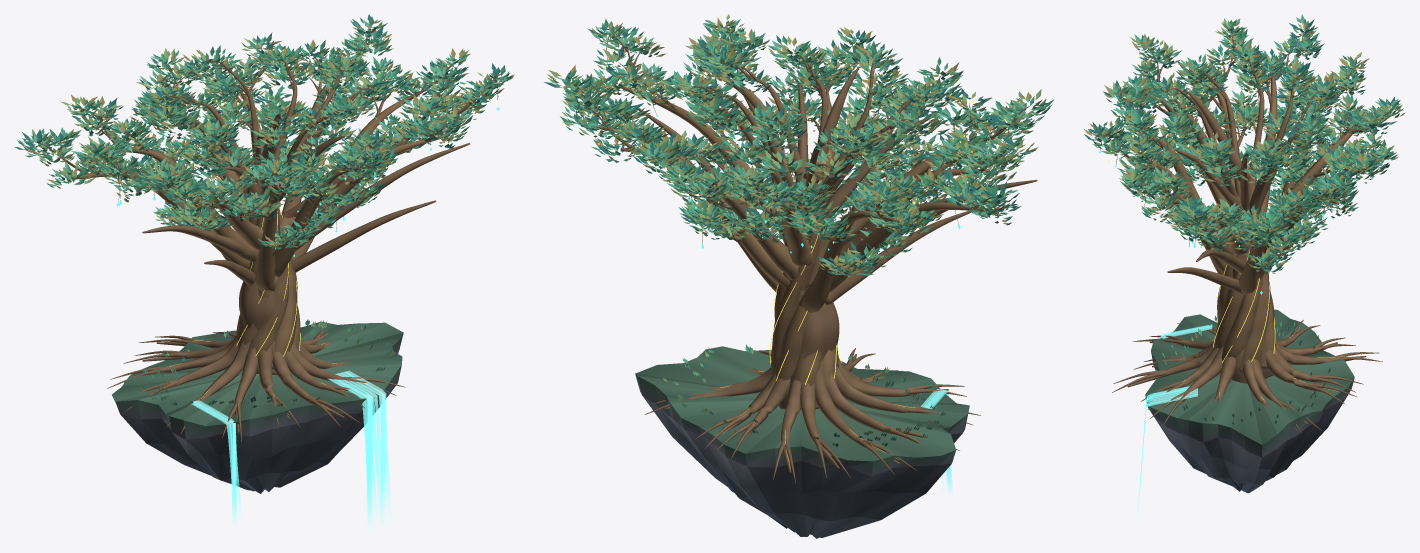
Rendered from yggdrasil-web.glb.
The picture shows the model from 3 angles, left to right: view 1: azimuth 30°, elevation 25°; view 2: azimuth 150°, elevation 25°; view 3: azimuth 270°, elevation 25°; orthographic projection. The views are drawn at different scales.
Parts seen in each view (by area): view 1: 02 | Jade and bronze leaf canopy, 01 | Heartwood and roots, 05 | Floating island strata, 06 | Astral waterfalls; view 2: 02 | Jade and bronze leaf canopy, 01 | Heartwood and roots, 05 | Floating island strata; view 3: 02 | Jade and bronze leaf canopy, 01 | Heartwood and roots, 05 | Floating island strata, 06 | Astral waterfalls, 03 | Golden sap and seed lights.
Part boxes in pixels (box(x1,y1,x2,y2)): 02 | Jade and bronze leaf canopy: box(15, 14, 514, 407); 01 | Heartwood and roots: box(36, 30, 498, 442); 05 | Floating island strata: box(112, 322, 403, 493); 06 | Astral waterfalls: box(189, 371, 390, 526); 02 | Jade and bronze leaf canopy: box(544, 14, 1053, 446); 01 | Heartwood and roots: box(569, 30, 1037, 483); 05 | Floating island strata: box(635, 346, 969, 538); 02 | Jade and bronze leaf canopy: box(1084, 14, 1404, 425); 01 | Heartwood and roots: box(1100, 31, 1390, 433); 05 | Floating island strata: box(1145, 309, 1354, 493); 06 | Astral waterfalls: box(1138, 324, 1212, 513); 03 | Golden sap and seed lights: box(1108, 44, 1383, 401).
Size of the model in its own units: 17.25 by 16.07 by 11.29.
